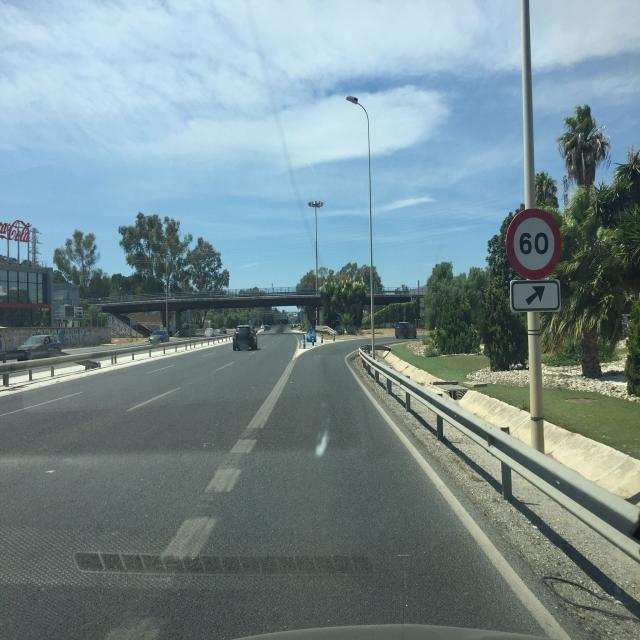car: (14, 334, 62, 361), (232, 324, 258, 350), (394, 321, 418, 340), (148, 328, 170, 343)
